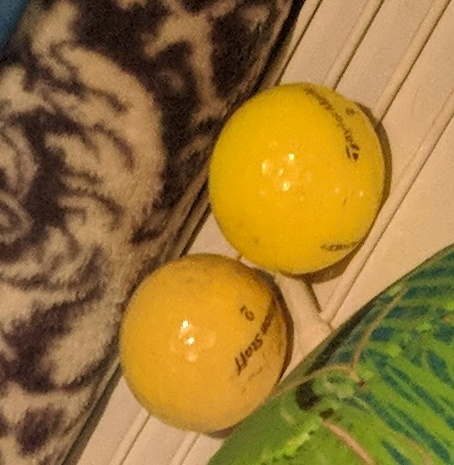ball: (205, 83, 388, 275)
